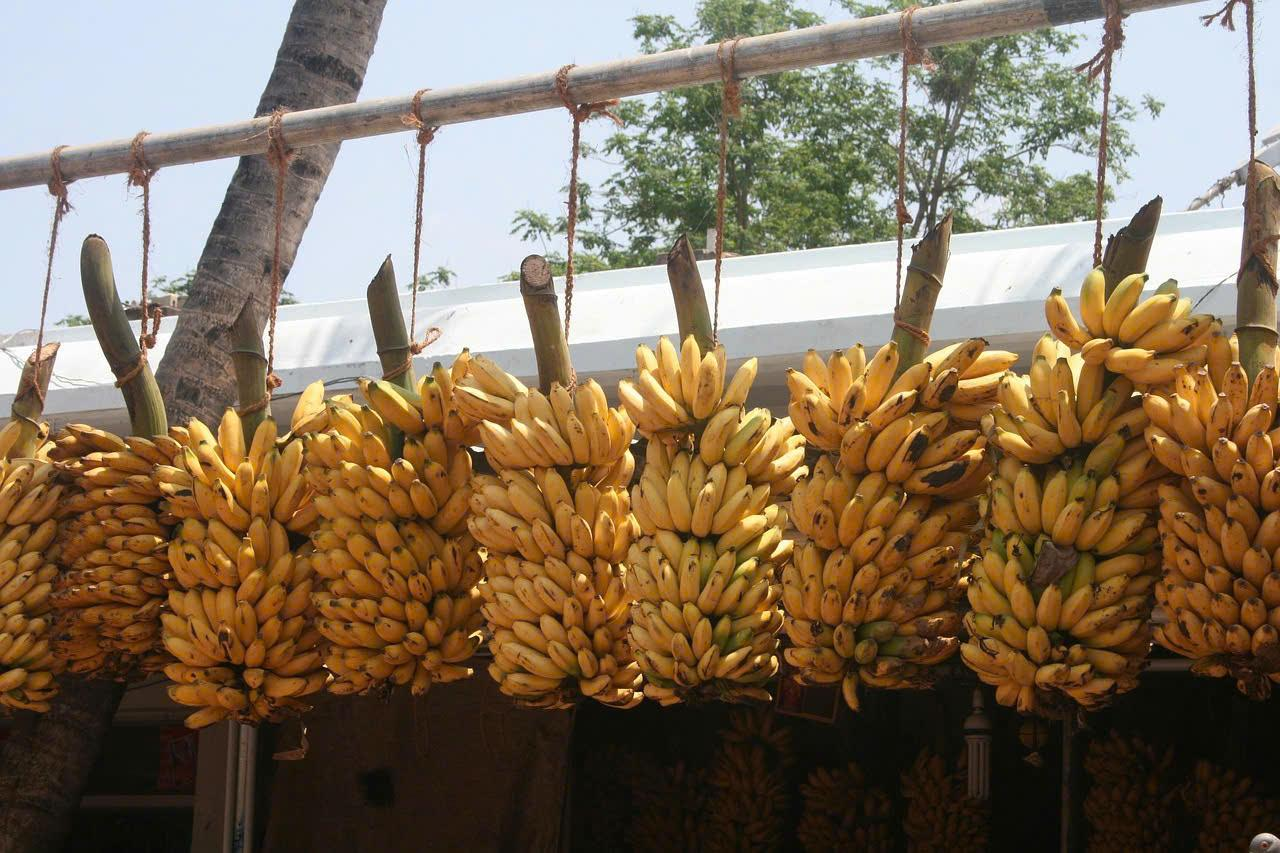banana: (832, 346, 1020, 515), (162, 524, 312, 707), (1050, 248, 1220, 400), (640, 418, 823, 554), (486, 380, 624, 559), (316, 454, 478, 569)
